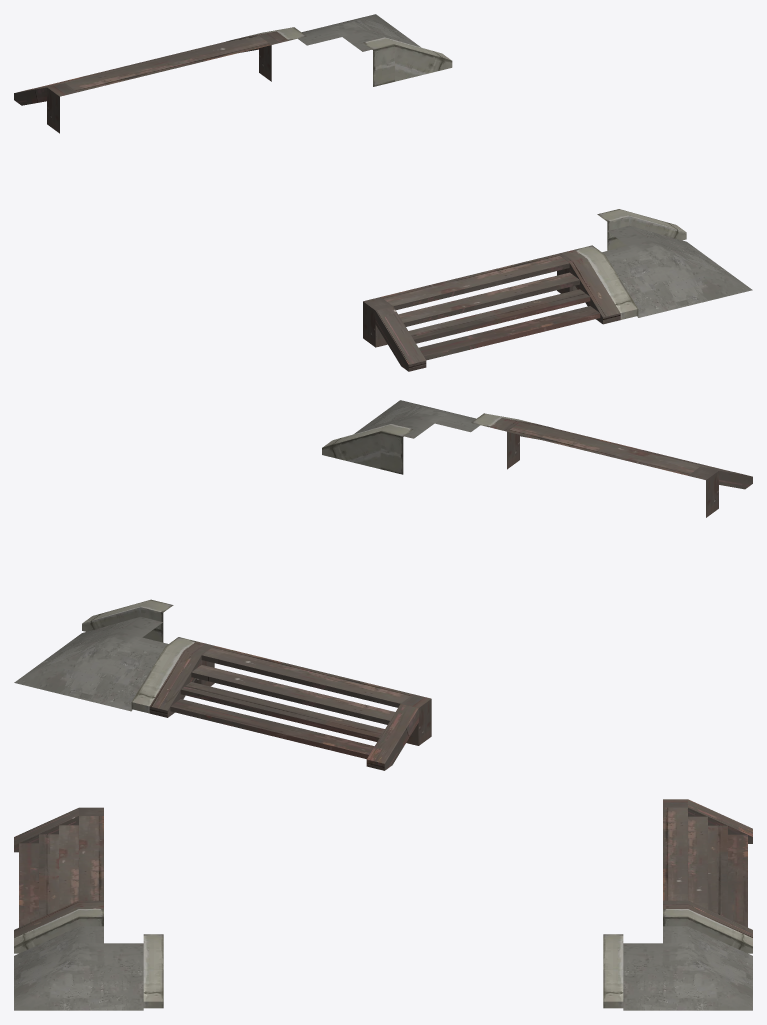
3 views of the same model, one above another, from view 1: azimuth 30°, elevation 25°; view 2: azimuth 150°, elevation 25°; view 3: azimuth 270°, elevation 25° (orthographic). The views are drawn at different scales.
Visible parts, largest first — view 1: body0_model0_lod0_mesh0, body0_model0_lod0_mesh2, body0_model0_lod0_mesh1; view 2: body0_model0_lod0_mesh0, body0_model0_lod0_mesh2, body0_model0_lod0_mesh1; view 3: body0_model0_lod0_mesh2, body0_model0_lod0_mesh0, body0_model0_lod0_mesh1.
Part boxes in pixels (bbox=[...]): body0_model0_lod0_mesh0: bbox=[14, 31, 620, 371]; body0_model0_lod0_mesh2: bbox=[298, 14, 752, 317]; body0_model0_lod0_mesh1: bbox=[245, 27, 686, 319]; body0_model0_lod0_mesh0: bbox=[149, 417, 752, 770]; body0_model0_lod0_mesh2: bbox=[14, 400, 480, 711]; body0_model0_lod0_mesh1: bbox=[82, 413, 533, 713]; body0_model0_lod0_mesh2: bbox=[14, 926, 752, 1010]; body0_model0_lod0_mesh0: bbox=[14, 799, 752, 938]; body0_model0_lod0_mesh1: bbox=[14, 909, 752, 1008].
Size of the model in its own units: 328 by 34.02 by 592.
3 materials, 3 textured.
